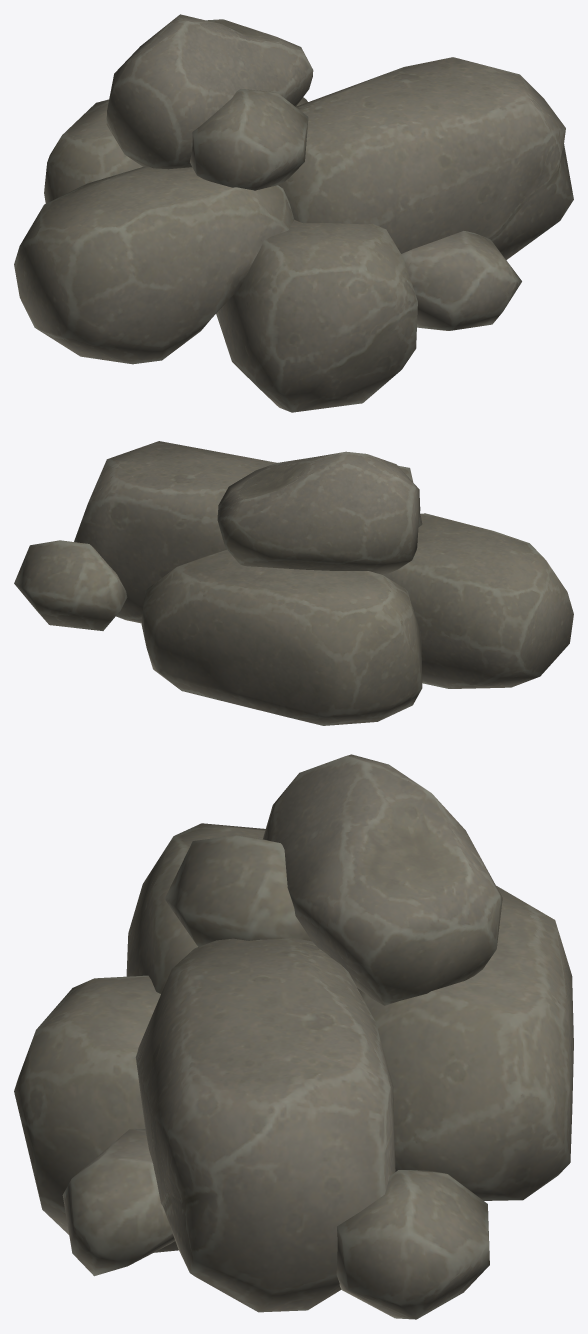
Rendered from MSH_fwOF_Debris_04.fbx.
3 views of the same model, one above another, from view 1: azimuth 30°, elevation 25°; view 2: azimuth 150°, elevation 25°; view 3: azimuth 270°, elevation 25° (orthographic). The views are drawn at different scales.
Visible parts, largest first — view 1: MSH_fwOF_Debris_04_LOD0; view 2: MSH_fwOF_Debris_04_LOD0; view 3: MSH_fwOF_Debris_04_LOD0.
Part boxes in pixels (<box>): MSH_fwOF_Debris_04_LOD0: <box>14,14,573,412</box>; MSH_fwOF_Debris_04_LOD0: <box>14,441,573,725</box>; MSH_fwOF_Debris_04_LOD0: <box>14,754,573,1319</box>.
Size of what is drawn, in the model's own units: 1.1 by 0.6218 by 0.7271.
